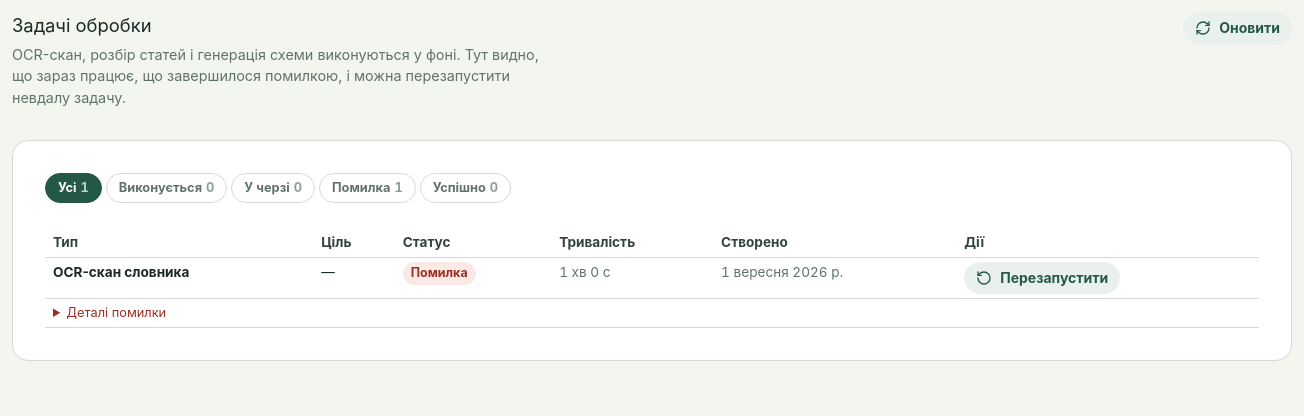
Test: DictionaryTasksPage › reveals the error detail on demand
This screenshot has width=1304, height=416.
Click the heading "Деталі помилки" at (116, 313), box [66,305,166,320]
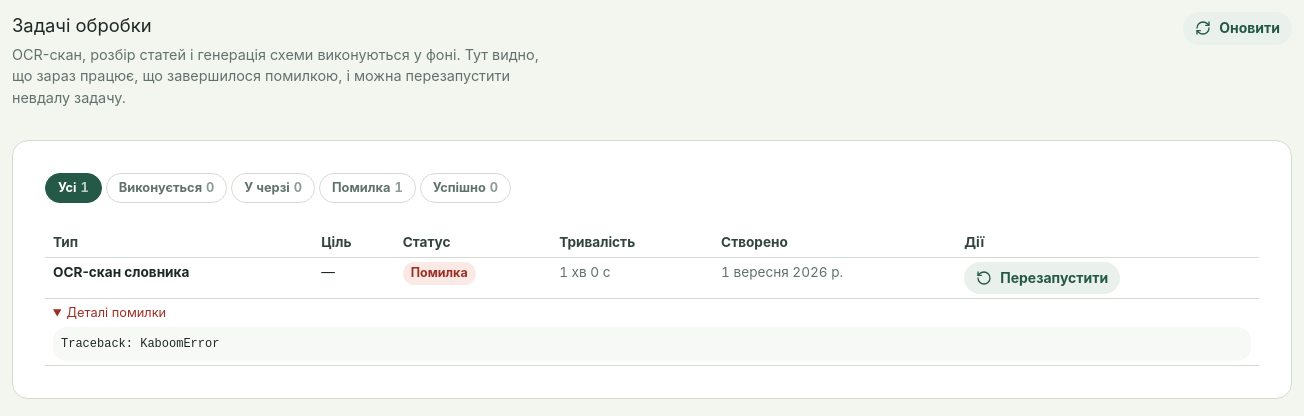
Check: the text "Traceback: KaboomError" is shown, box [53,327,1251,361]
